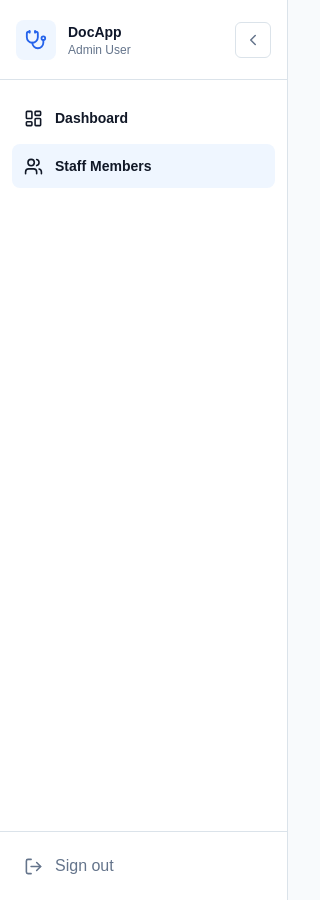
Test case: DashboardSidebar › collapses and expands item labels
Step 1. Click the button named "Collapse sidebar" → (253, 40), box [235,22,271,58]
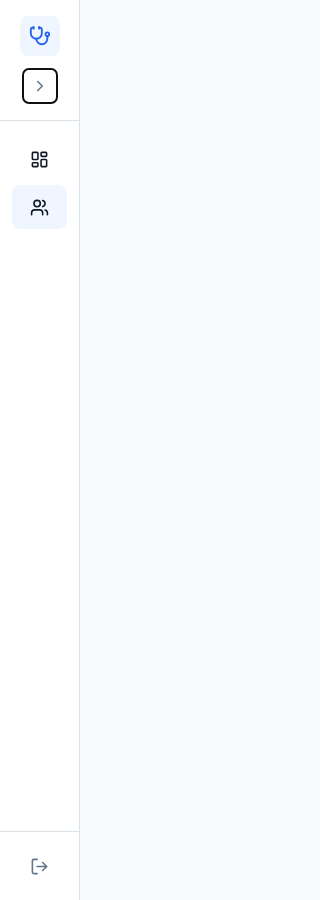
Expected: the text "Admin User" is gone
Expected: the text "Staff Members" is gone
Expected: the button named "Expand sidebar" is shown, [22,68,58,104]
